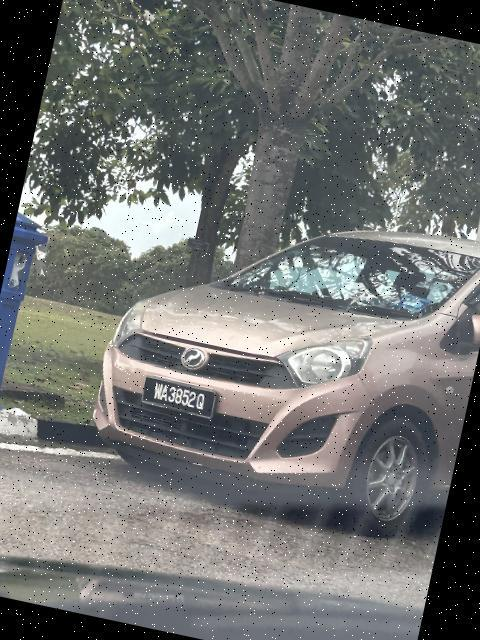License_Plate: (138, 374, 224, 425)
WA3852Q: (138, 374, 224, 425)
car: (70, 167, 480, 550)
